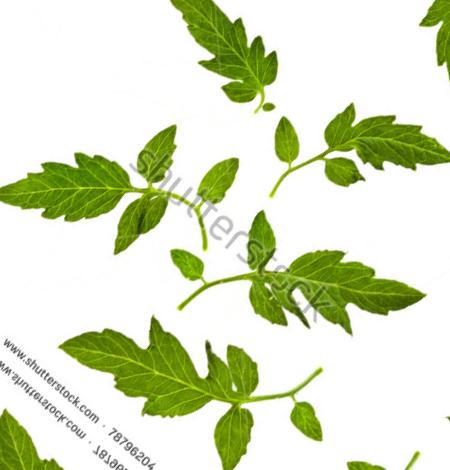Tomato leaf: (43, 224, 341, 470), (0, 47, 260, 321), (217, 48, 450, 311), (182, 170, 426, 414), (123, 0, 316, 139)
